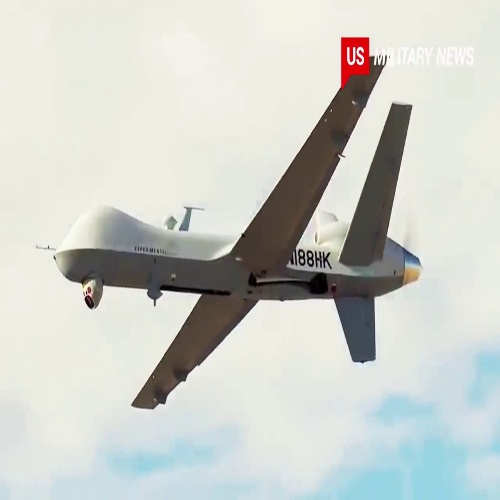uav546: (34, 52, 429, 411)
